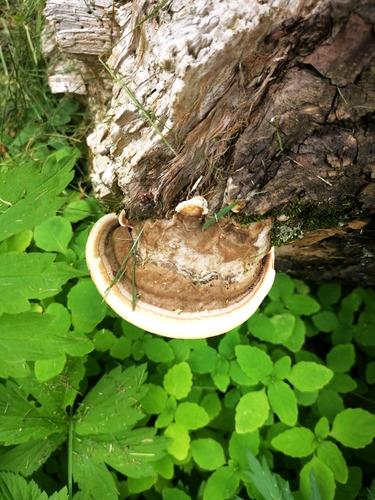Ganoderma - Fruit Body: (84, 206, 279, 342)
